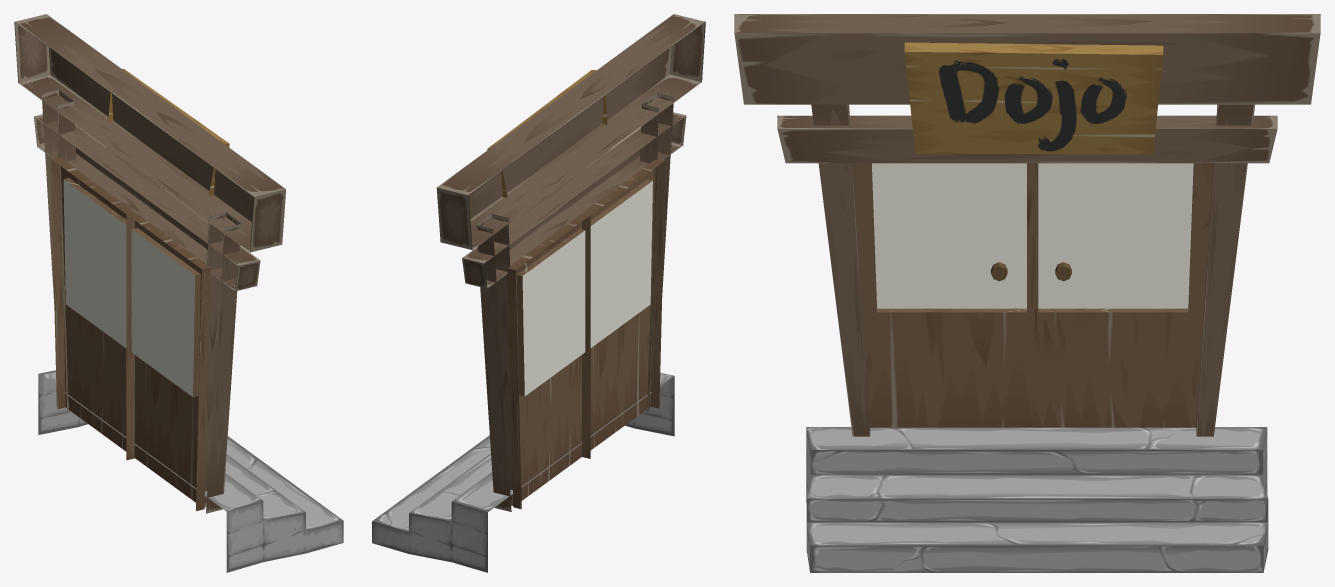
The model's file is dojoDoorEntrance.fbx.
The picture shows the model from 3 angles, left to right: view 1: azimuth 30°, elevation 25°; view 2: azimuth 150°, elevation 25°; view 3: azimuth 270°, elevation 25°; orthographic projection. The views are drawn at different scales.
Visible parts, largest first — view 1: polySurface7; view 2: polySurface7; view 3: polySurface7.
Part boxes in pixels (<box>): polySurface7: <box>14,14,343,572</box>; polySurface7: <box>372,14,705,572</box>; polySurface7: <box>734,14,1320,572</box>.
Bounding box in the file's own units: 4.9 × 14.73 × 16.07.
